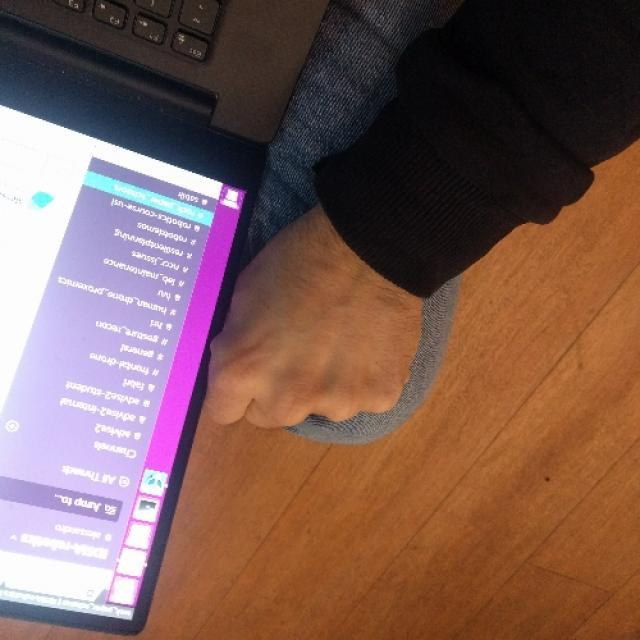rock: (214, 220, 413, 428)
